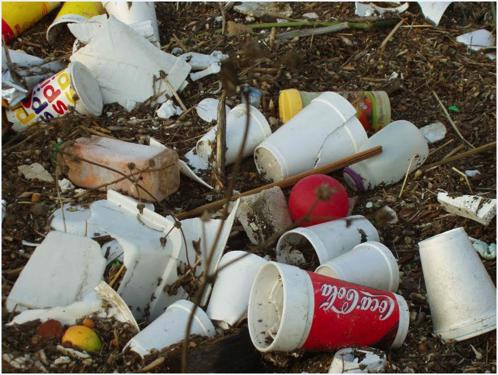cup: (240, 257, 410, 357), (248, 84, 373, 185), (414, 228, 498, 357), (4, 59, 111, 138), (197, 95, 275, 174)
